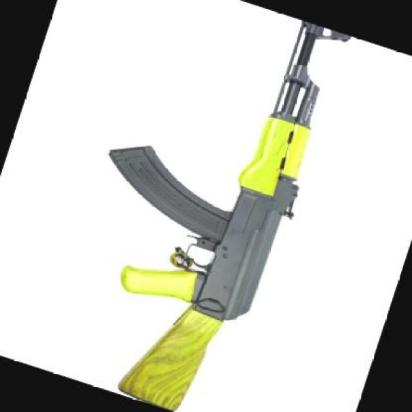Gun: (104, 0, 352, 408)
